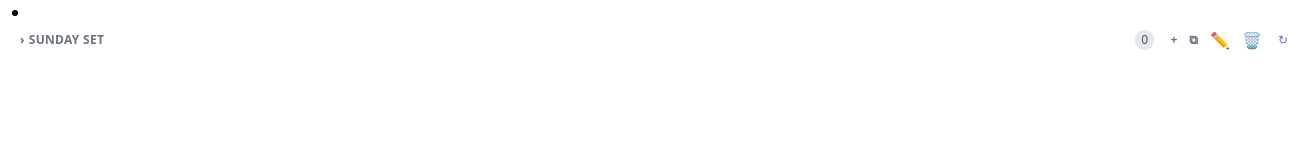
Scenario: shows expired label and hides button when link is expired
Click the button named "check for updates".
click(1283, 40)  # box [1274,28,1292,52]
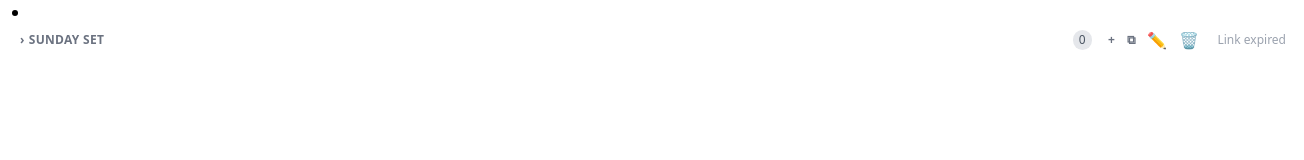
Expected: the text "Link expired" is shown, [1212,30,1292,50]
